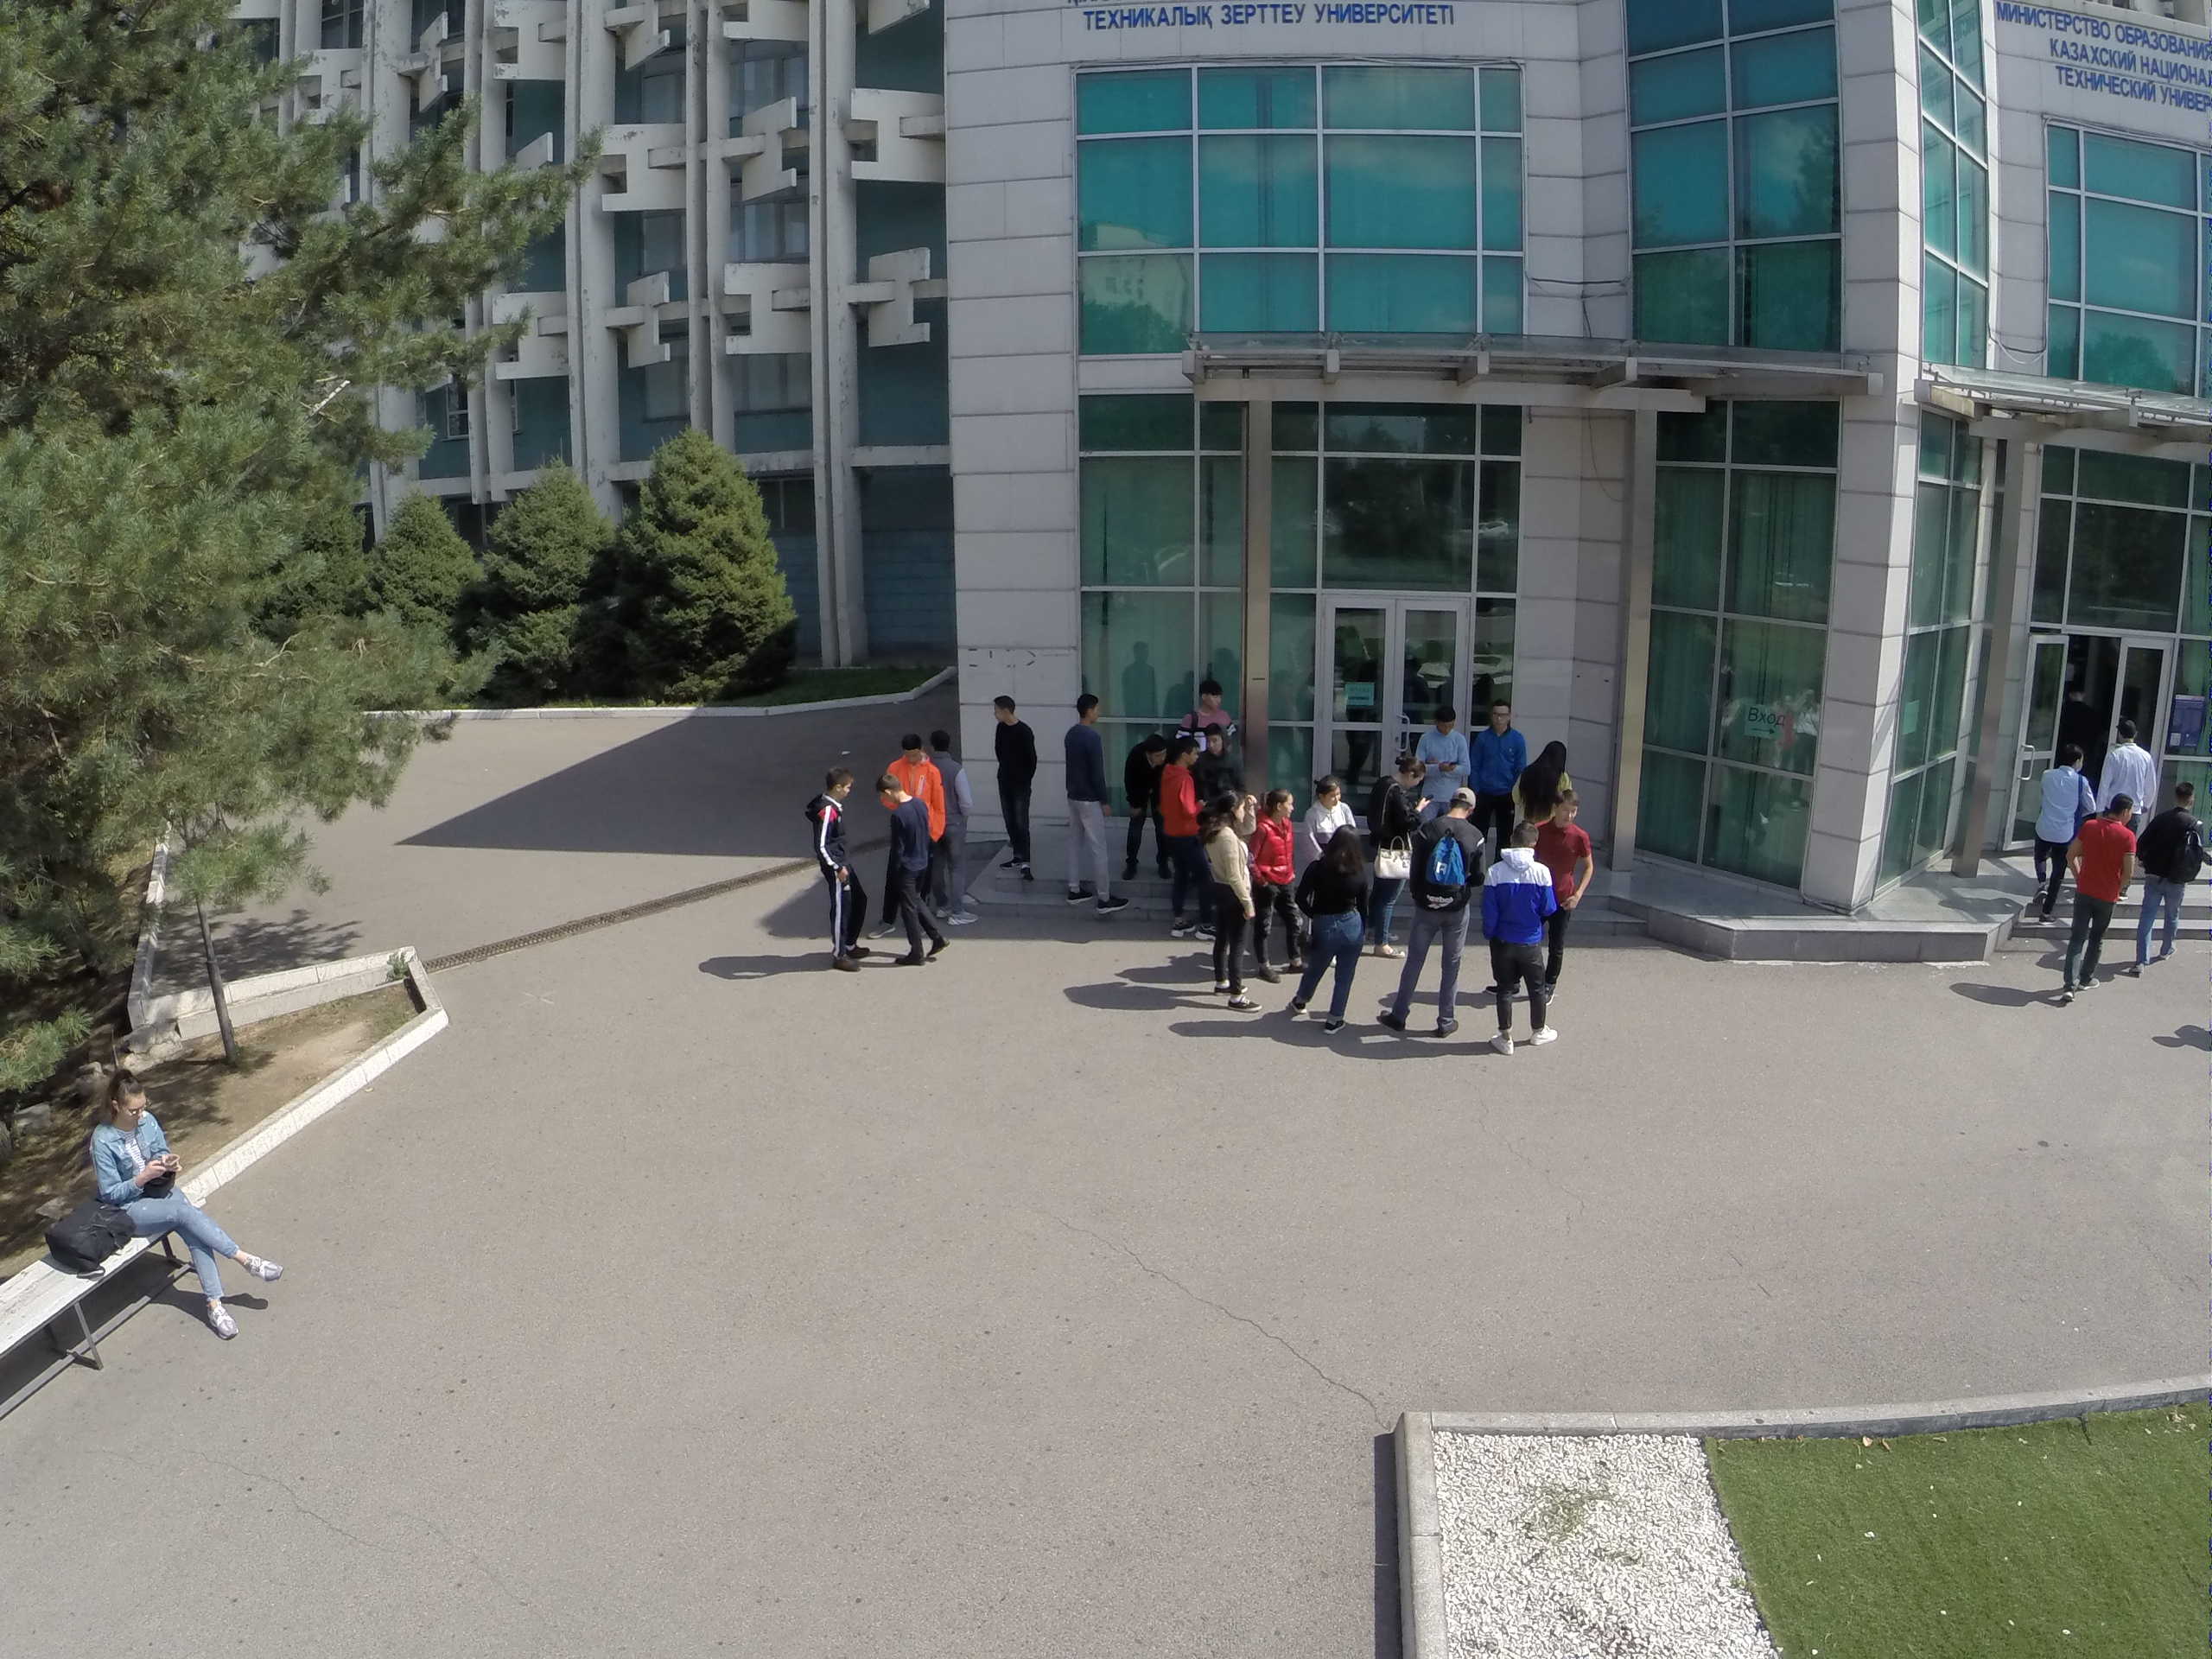person: (86, 1063, 281, 1338), (2059, 794, 2143, 1017), (1289, 823, 1370, 1033), (1484, 828, 1554, 1060), (2132, 781, 2206, 986), (1414, 793, 1473, 1041), (1361, 753, 1427, 957), (810, 767, 876, 976), (875, 775, 943, 974), (1061, 683, 1116, 923), (931, 727, 988, 935), (1161, 741, 1211, 942), (991, 695, 1042, 893), (1545, 791, 1593, 995), (1210, 794, 1255, 1007), (1264, 786, 1303, 978), (2036, 741, 2072, 924), (1474, 702, 1523, 817), (1130, 735, 1166, 870), (1522, 738, 1579, 822), (1423, 709, 1465, 808), (2110, 714, 2152, 808), (890, 734, 933, 815), (1190, 683, 1234, 735), (1315, 779, 1351, 835)
